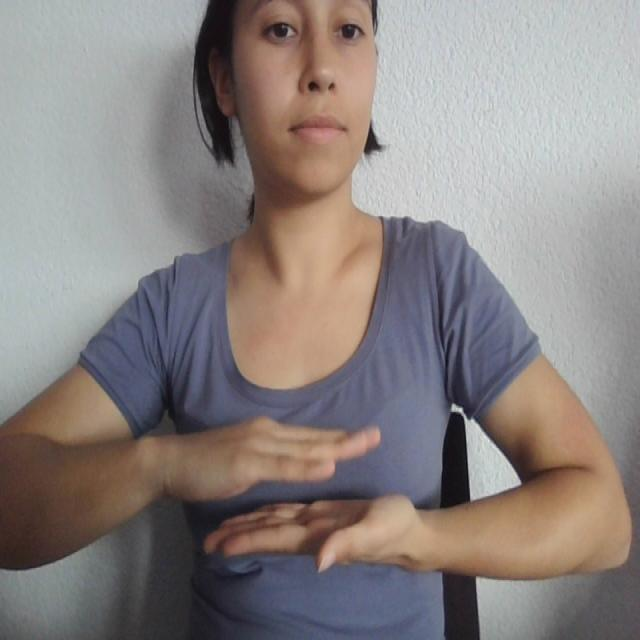Arkadas: (98, 403, 512, 586)
